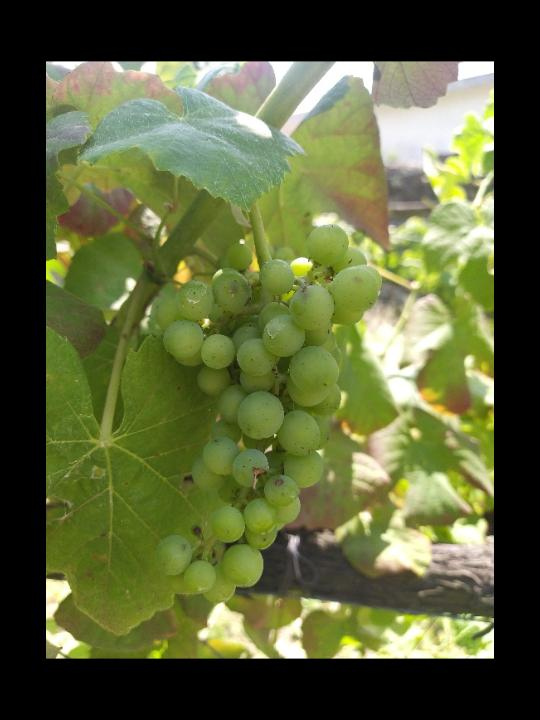grape: (147, 221, 382, 607)
